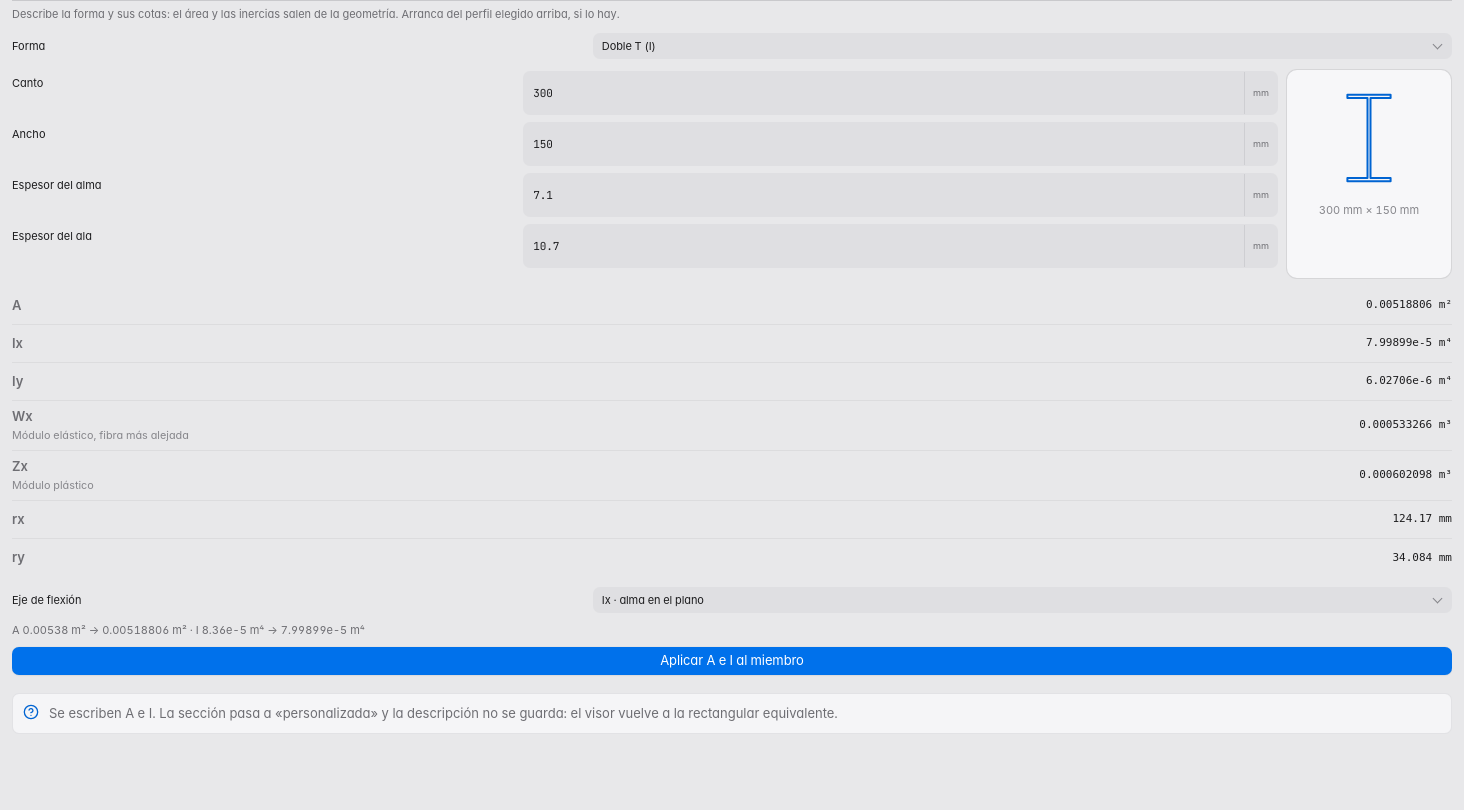
cambiar de forma › conserva las cotas ya escritas que la forma nueva no usa
The width and height of the screenshot is (1464, 810).
Replace the text in the field labelled "Espesor del ala" with "20" at (884, 246), box [524, 225, 1244, 267]
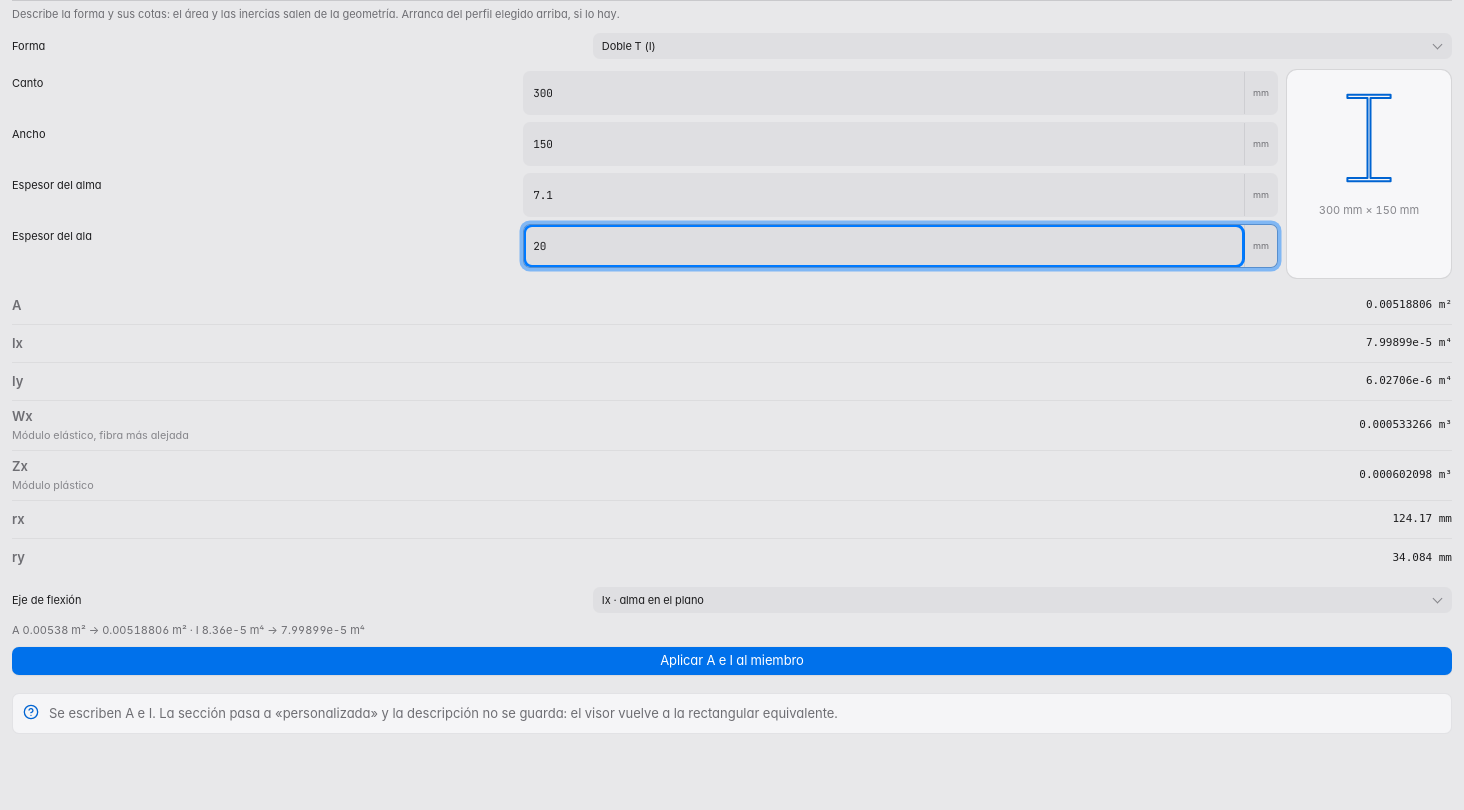
Press Tab
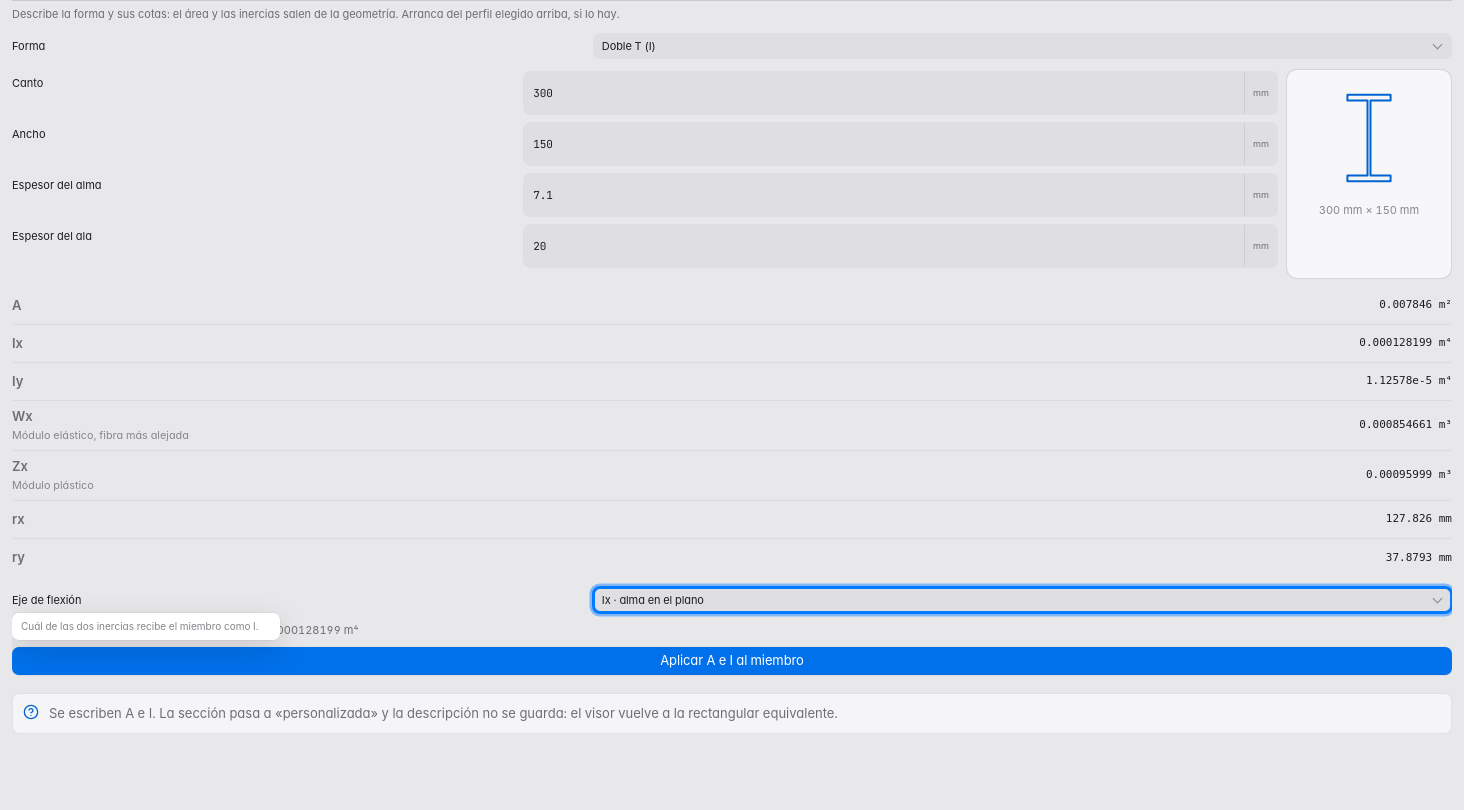
Select "Cajón rectangular" in the dropdown labelled "Forma" at (1022, 46), box [593, 33, 1452, 59]
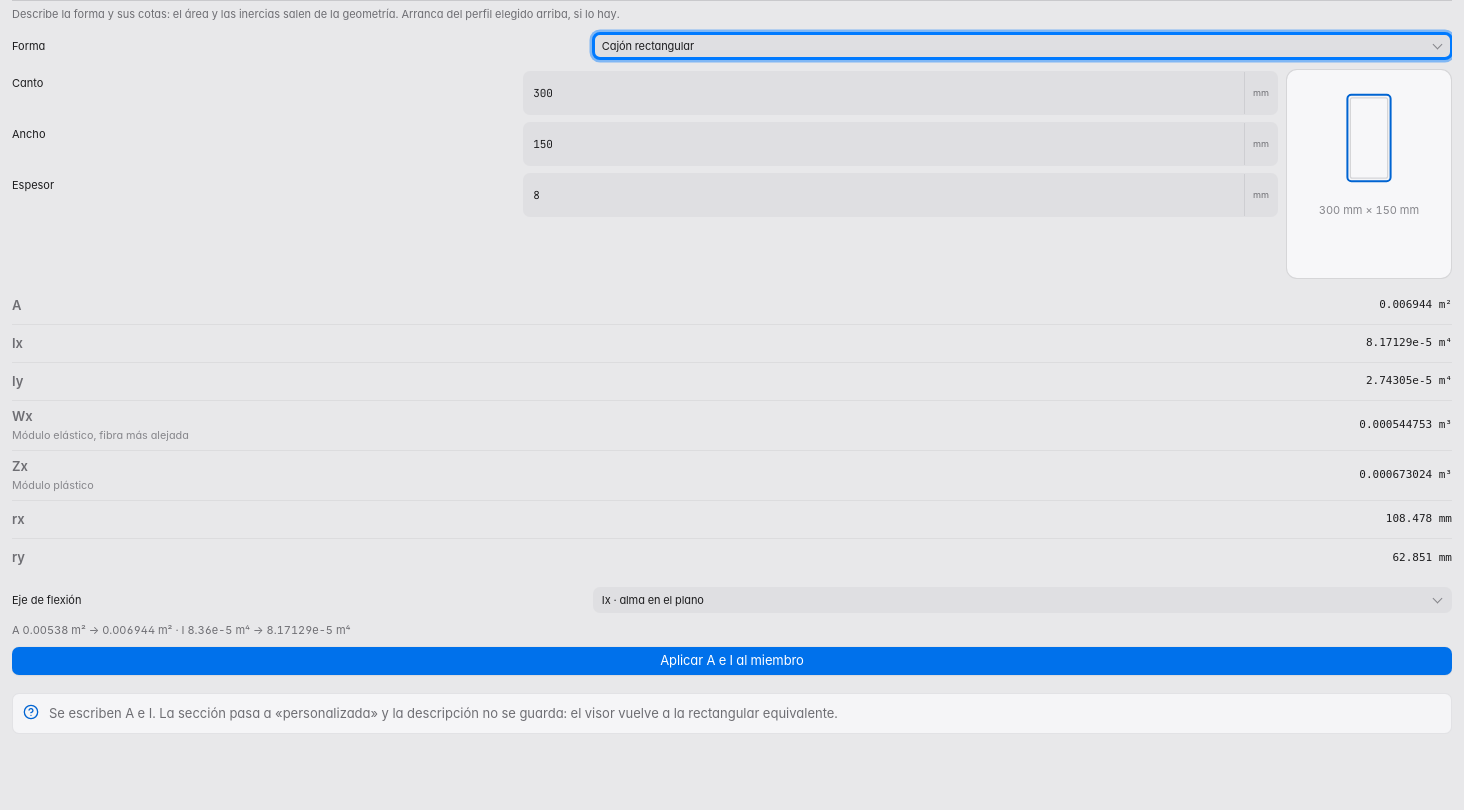
Now the label labelled "Espesor del ala" is gone
Select "Doble T (I)" in the dropdown labelled "Forma" at (1022, 46), box [593, 33, 1452, 59]
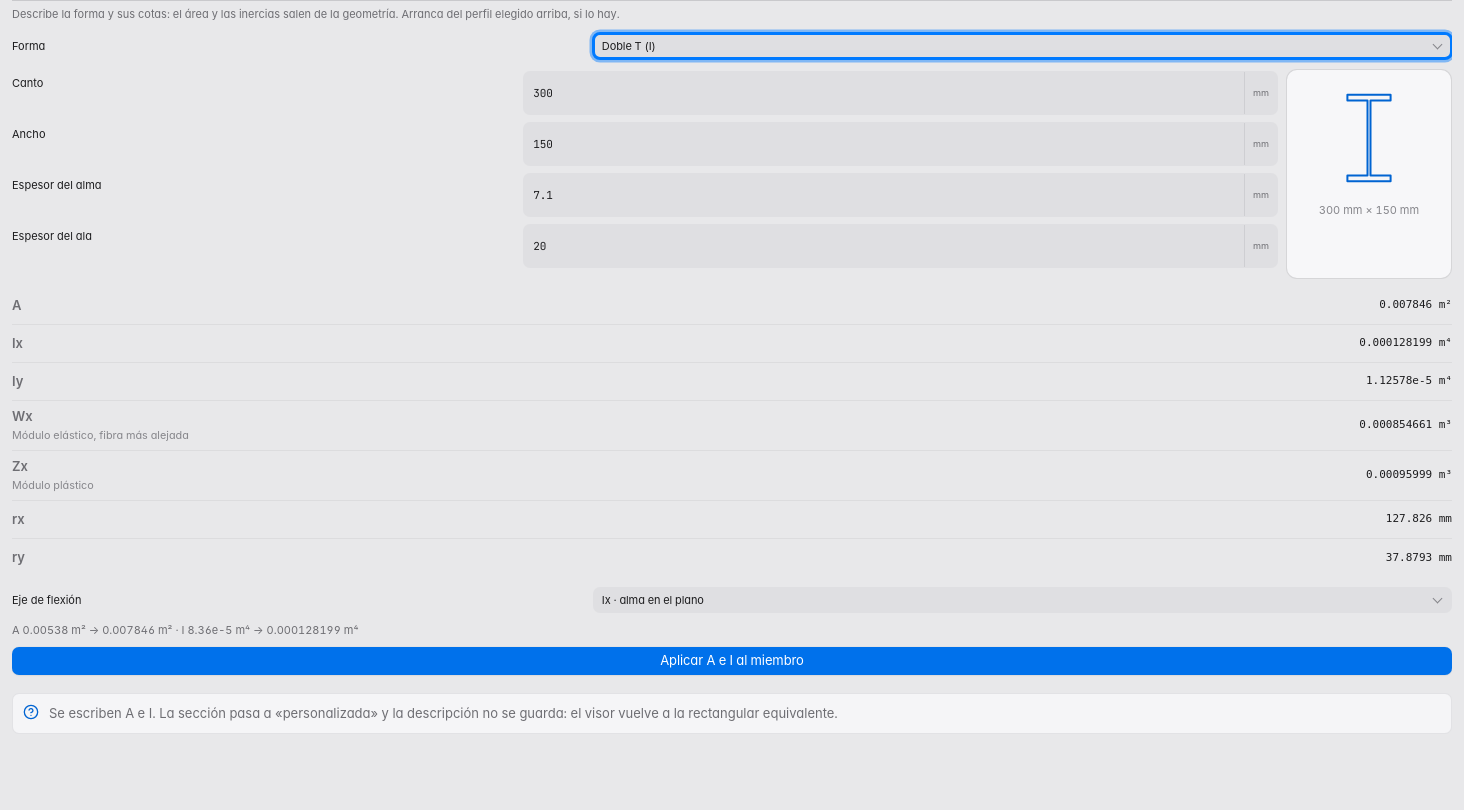
Now the field labelled "Espesor del ala" holds "20", box [524, 225, 1244, 267]
